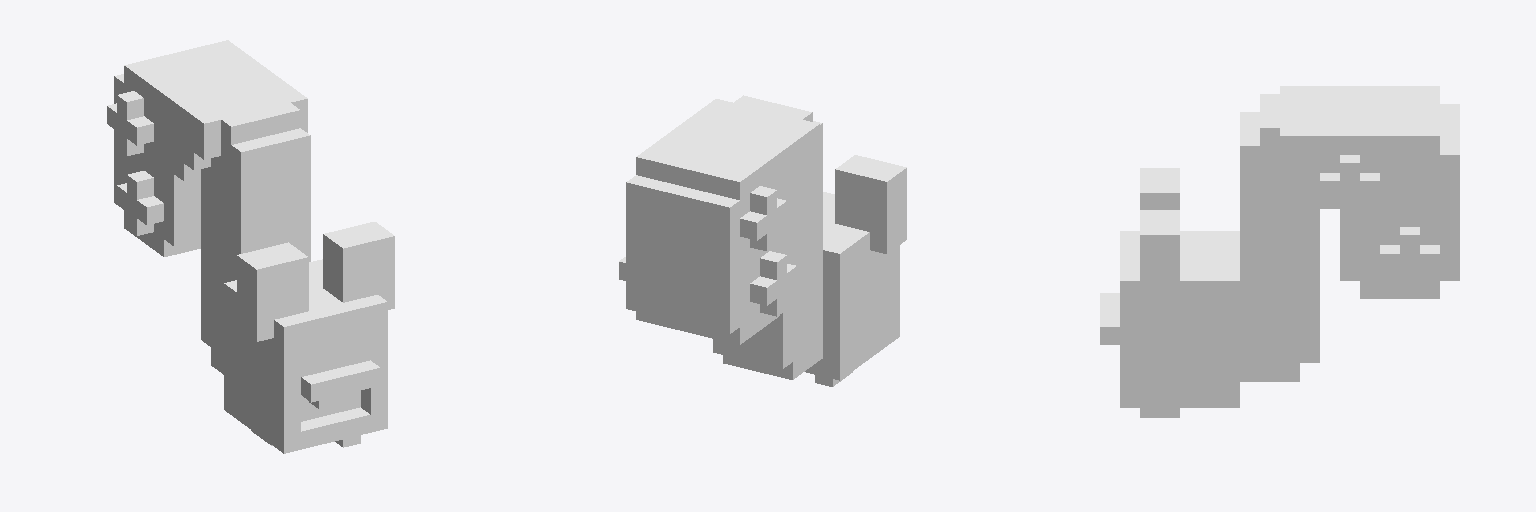
The model's file is Voxels-27.obj.
The picture shows the model from 3 angles: view 1: azimuth 30°, elevation 25°; view 2: azimuth 150°, elevation 25°; view 3: azimuth 270°, elevation 25°; orthographic projection.
Visible parts, largest first — view 1: Voxels-27; view 2: Voxels-27; view 3: Voxels-27.
Boxes of the visible parts, x1,y1,x2,y2 form: Voxels-27: [107, 40, 394, 453]; Voxels-27: [619, 95, 906, 386]; Voxels-27: [1100, 86, 1459, 417].
Bounding box in the file's own units: 8 × 16 × 18.